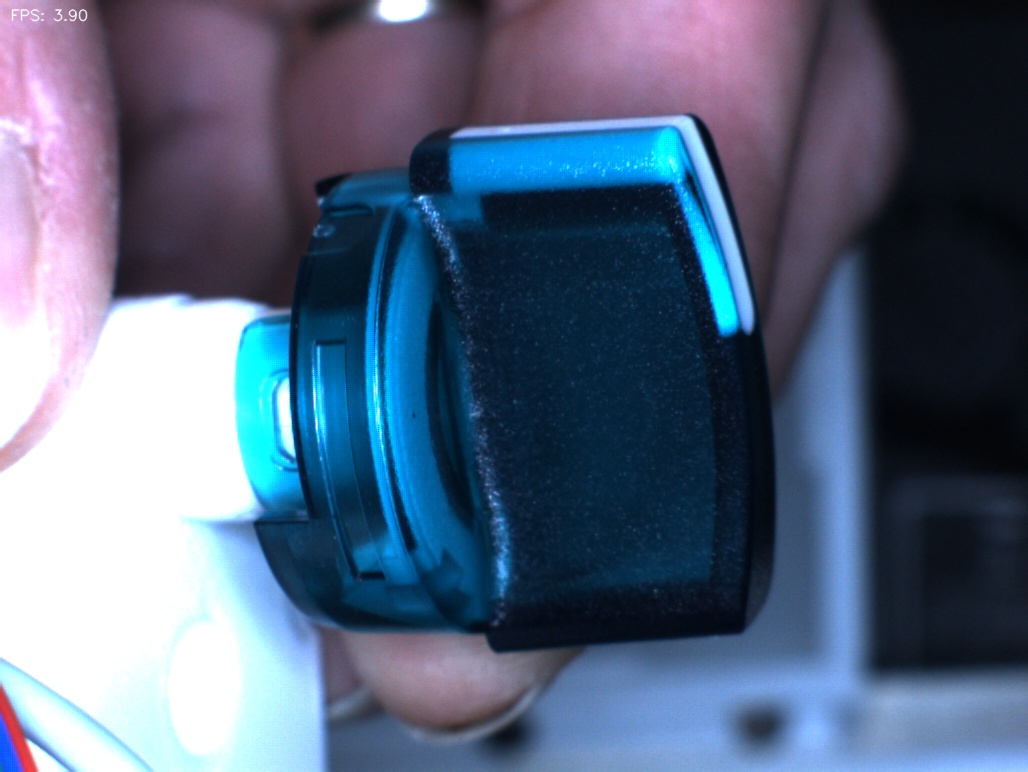PointNoir: (386, 371, 442, 453)
